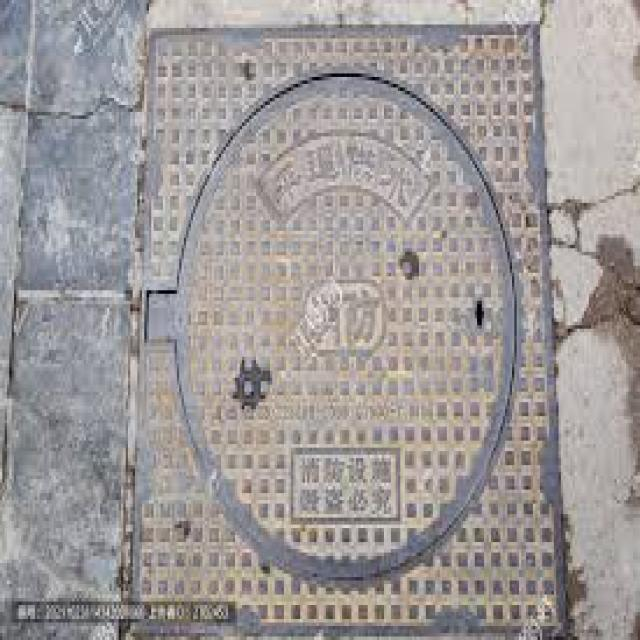manhole: (176, 72, 516, 587)
